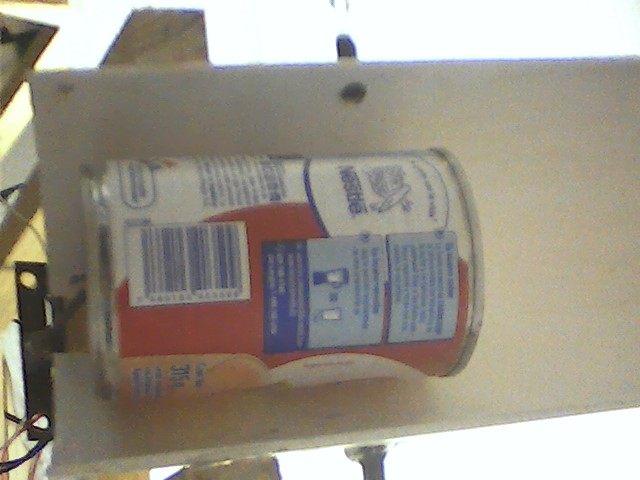lata: (79, 146, 491, 407)
